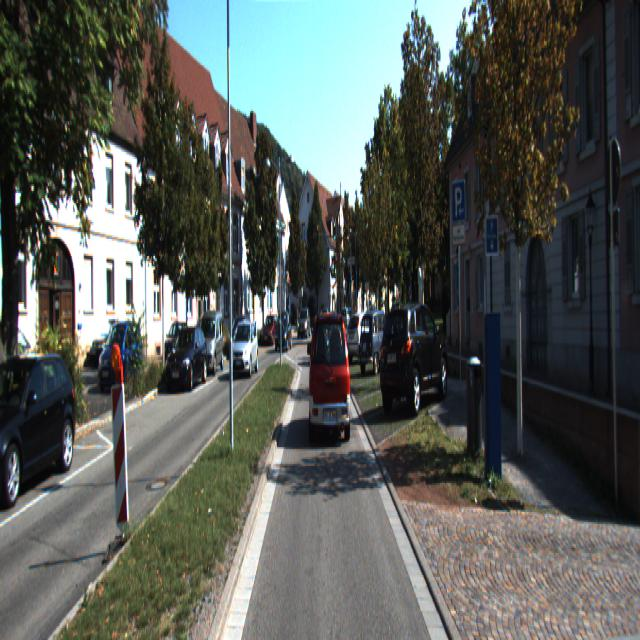Car: (0, 350, 79, 510), (378, 298, 450, 414), (310, 312, 353, 446), (97, 320, 143, 390), (165, 325, 208, 395), (357, 307, 399, 377), (90, 317, 138, 368), (195, 311, 225, 377), (346, 310, 382, 362), (230, 317, 260, 379), (228, 313, 251, 358), (275, 310, 293, 352), (260, 315, 281, 347), (298, 308, 310, 339)
